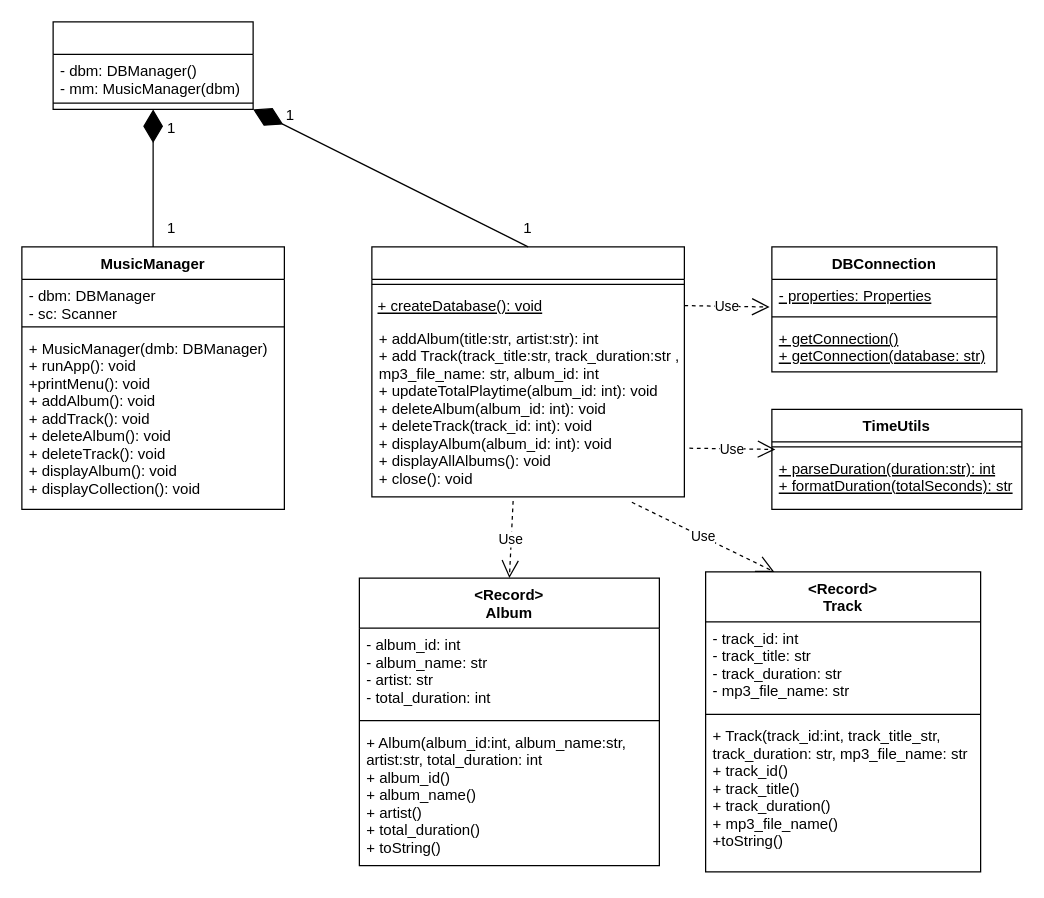
The diagram is 1044 pixels wide and 898 high, and some of its shapes have lost their labels. Each missing label, with the box of its shape:
DBManager: (371, 246, 684, 497)
MusicManagerApp: (52, 21, 253, 109)
